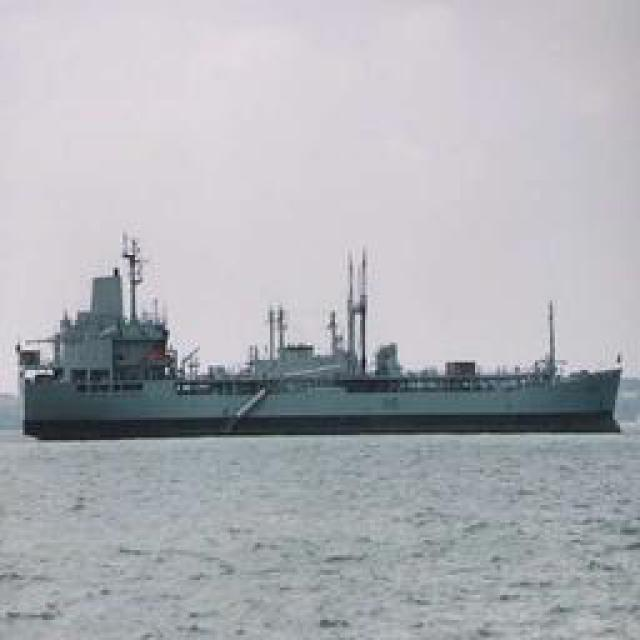Ship: (23, 228, 618, 436)
